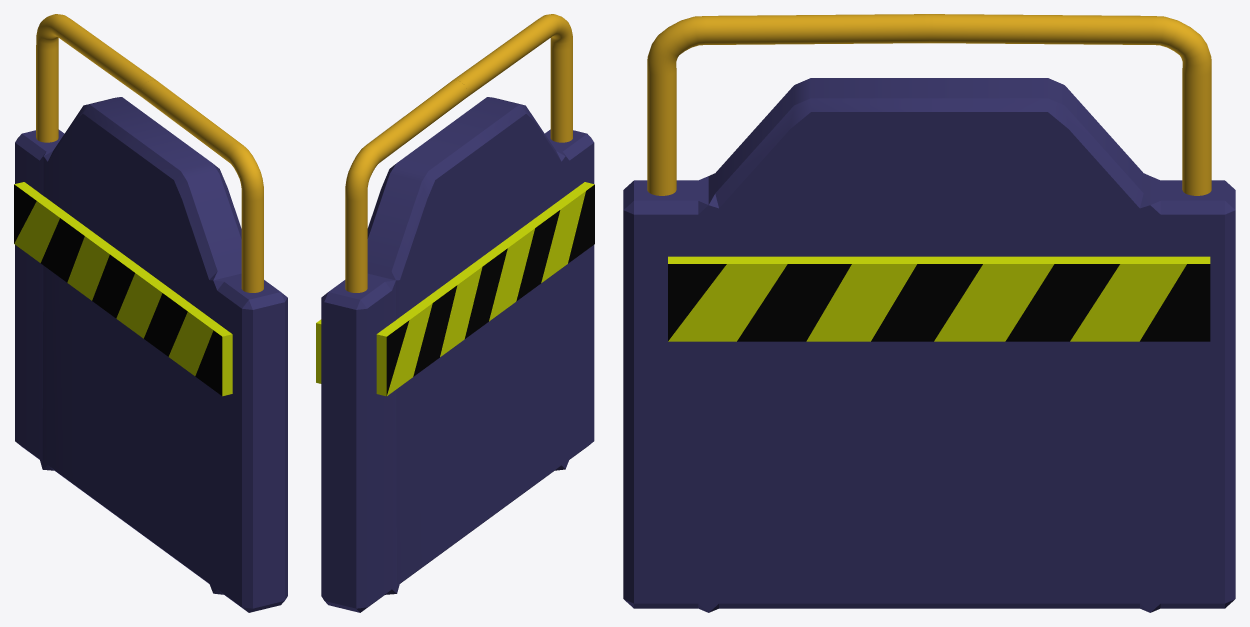
Rendered from barrier.glb.
3 views of the same model, side by side, from view 1: azimuth 30°, elevation 25°; view 2: azimuth 150°, elevation 25°; view 3: azimuth 270°, elevation 25° (orthographic). The views are drawn at different scales.
Visible parts, largest first — view 1: barrier; view 2: barrier; view 3: barrier.
Part boxes in pixels (x1=…): barrier: x1=14, y1=14, x2=287, y2=612; barrier: x1=316, y1=14, x2=594, y2=612; barrier: x1=623, y1=14, x2=1235, y2=612.
Bounding box in the file's own units: 0.2383 × 1.52 × 1.45.
